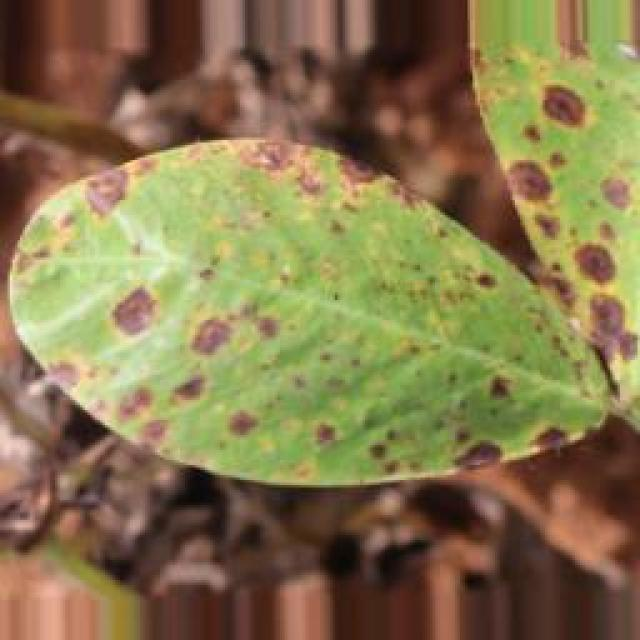Yellowish: (19, 37, 640, 489)
